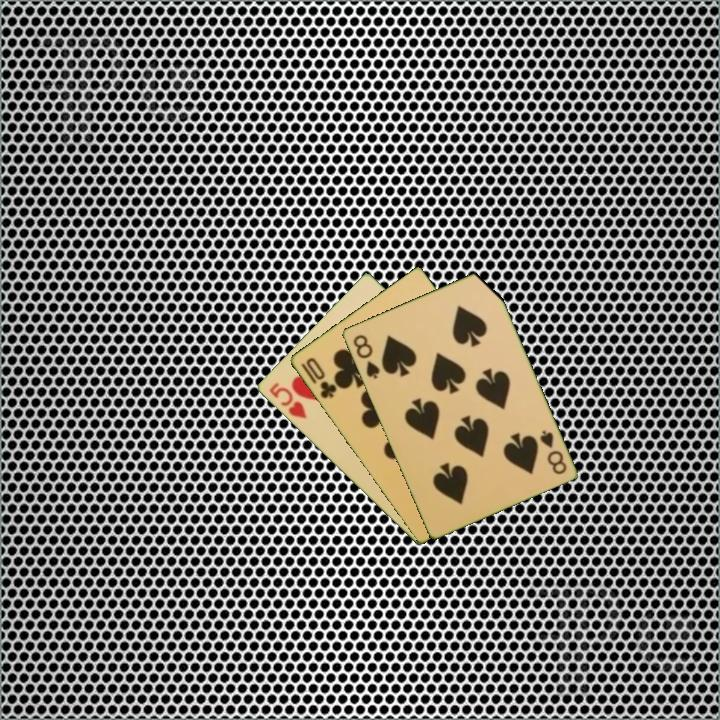10c: (297, 354, 339, 402)
5h: (265, 379, 309, 422)
8s: (349, 331, 382, 382), (536, 426, 569, 477)
